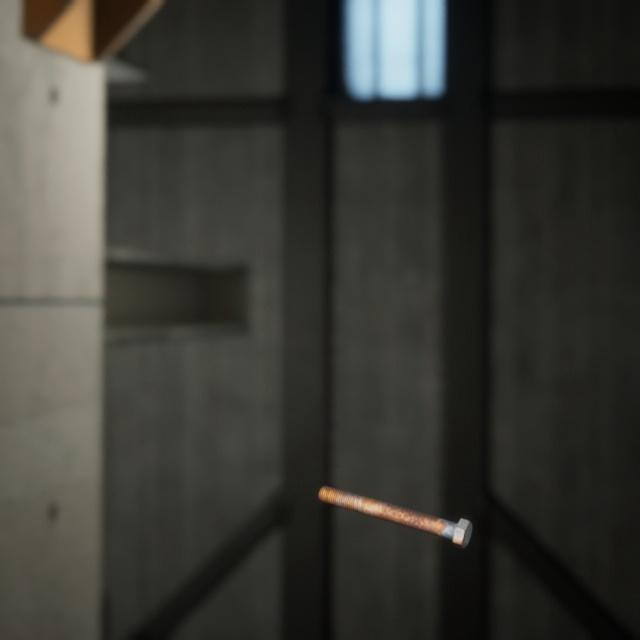bolt: (314, 461, 476, 532)
